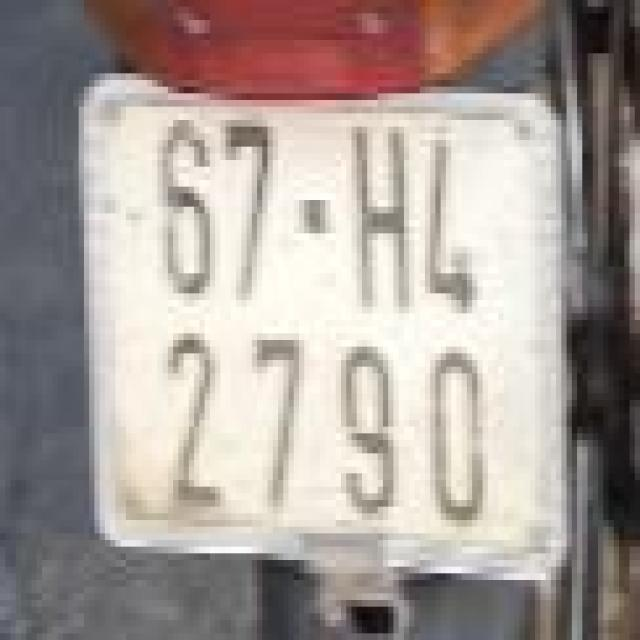0: (409, 333, 488, 540)
2: (152, 323, 231, 517)
4: (420, 110, 488, 337)
6: (152, 104, 226, 304)
7: (239, 323, 307, 517), (223, 110, 275, 297)
9: (323, 326, 401, 526)
H: (341, 103, 420, 310)
